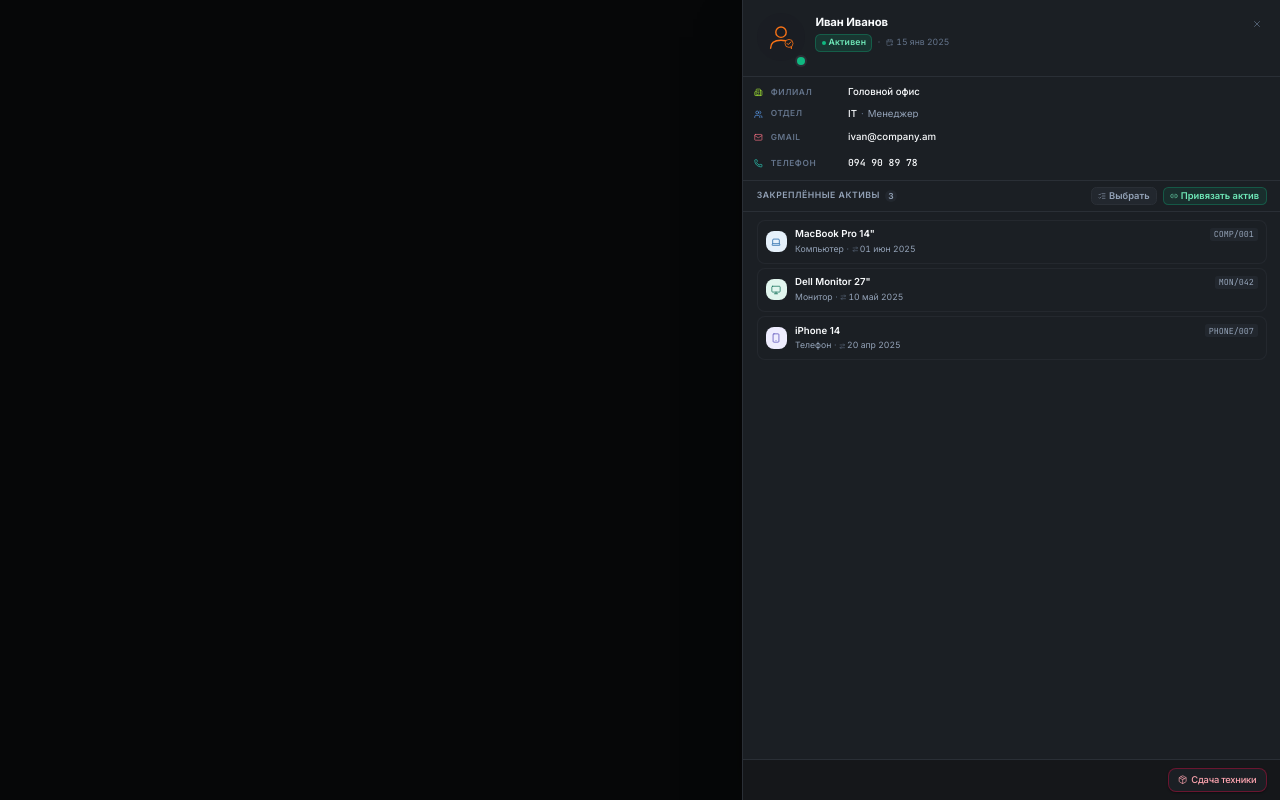
Test: EmployeeDetailDrawer — multi-select transfer flow › 3. Выбрать все selects all rows; count shows 3
This screenshot has width=1280, height=800.
Click the button "Выбрать" at (1124, 196), box [1091, 187, 1157, 205]
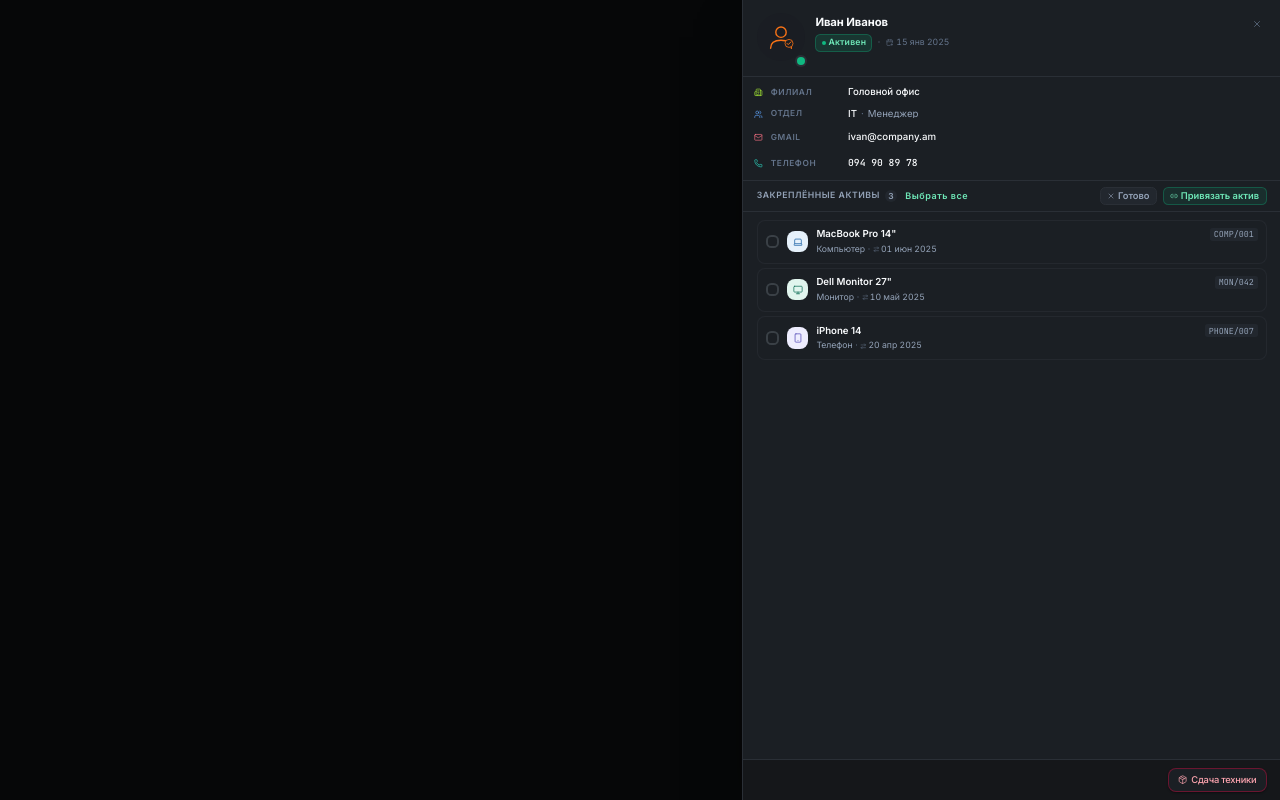
Click the button "Выбрать все" at (937, 196), box [905, 189, 968, 203]
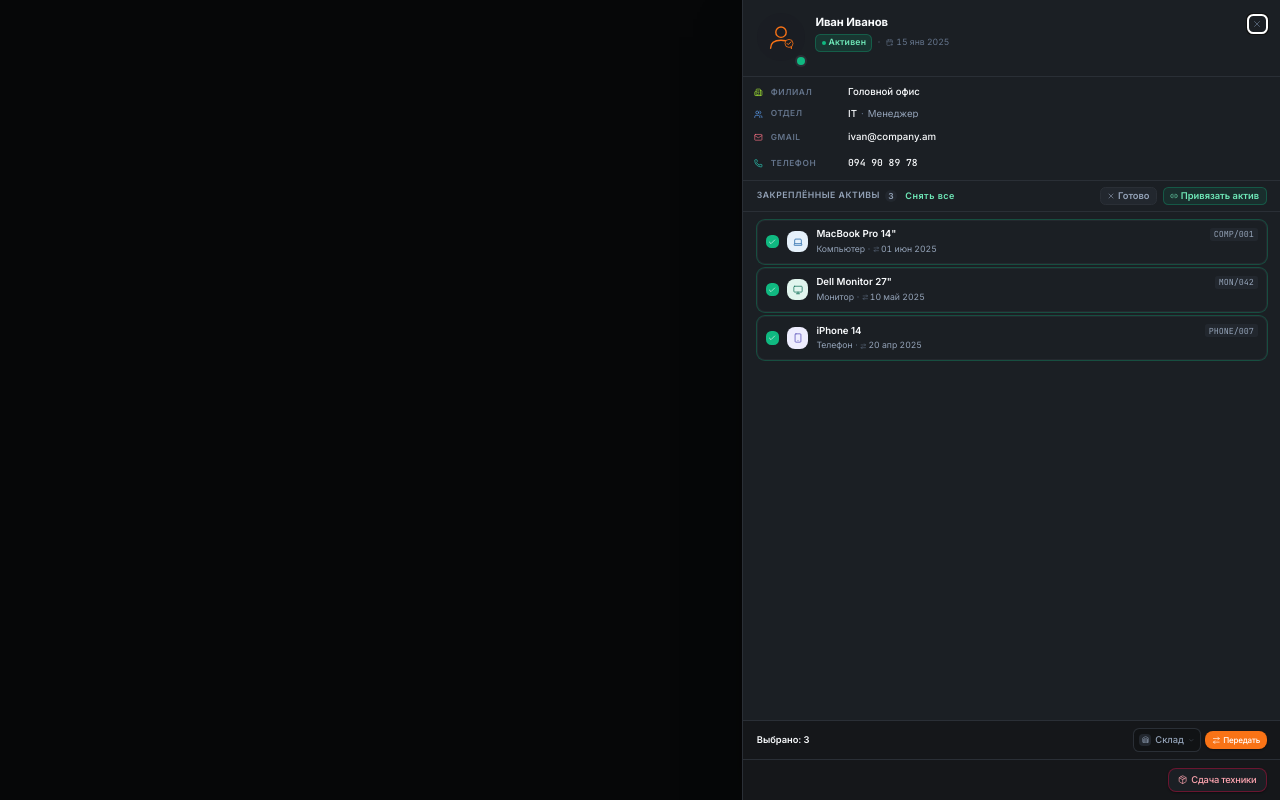
Expected: the text "Выбрано: 3" is shown, [757, 733, 810, 747]
